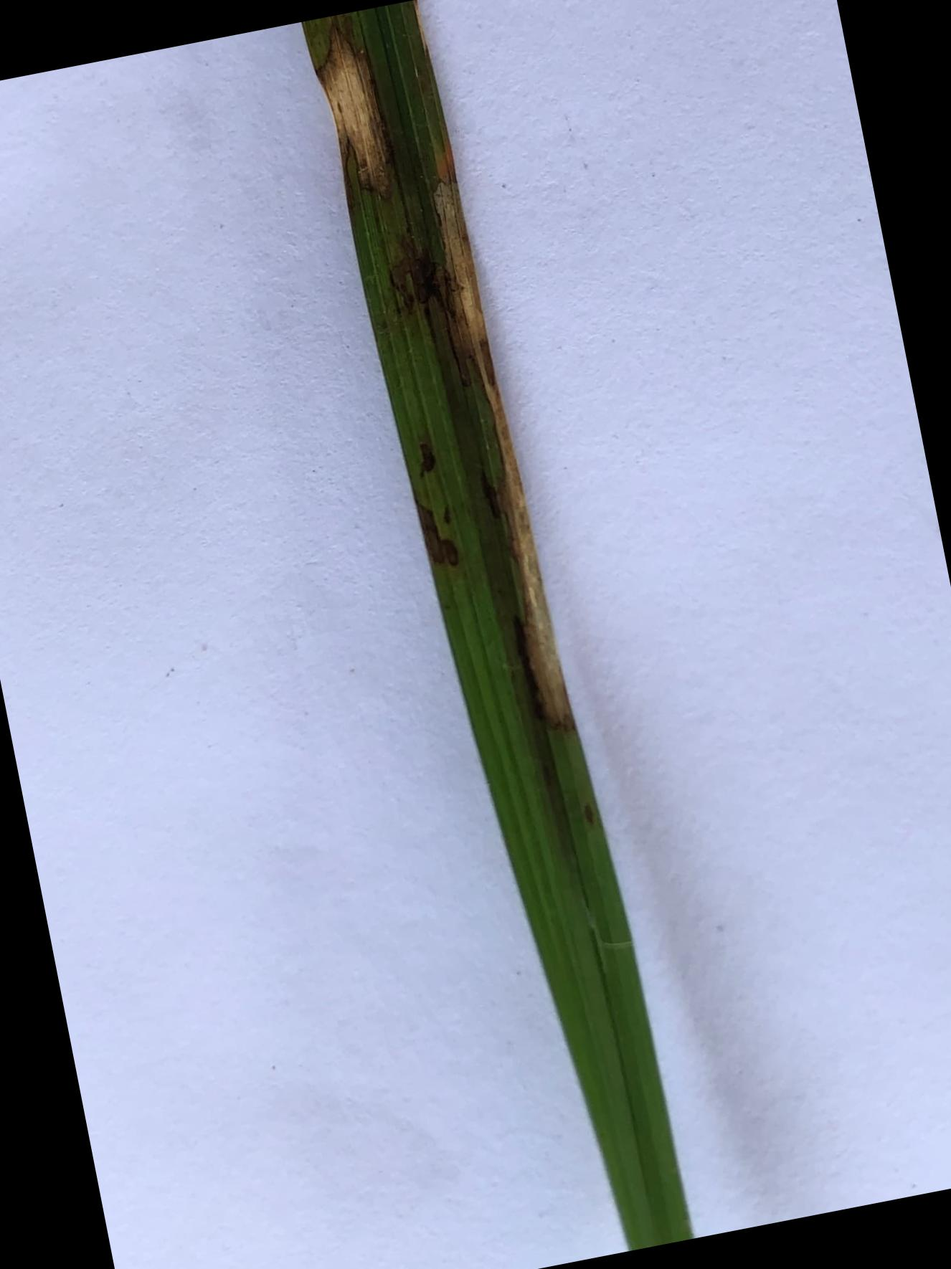Leaf Blight: (400, 67, 569, 729), (312, 25, 391, 193), (410, 440, 459, 568)
